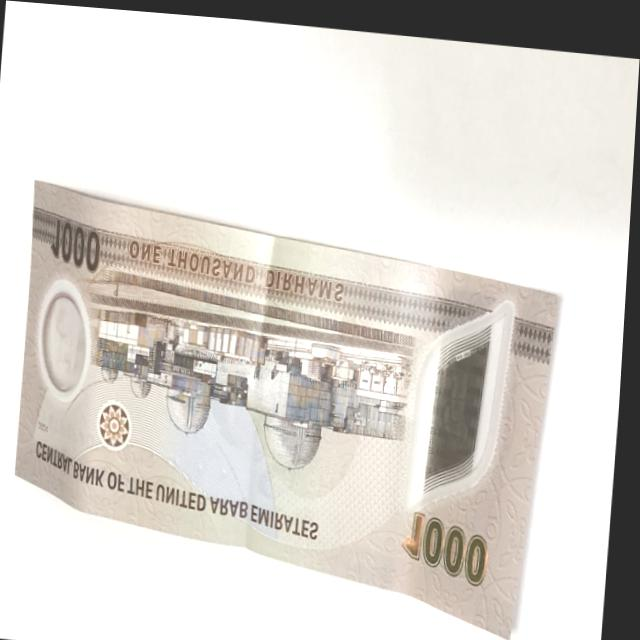1000_AED: (8, 169, 569, 640)
